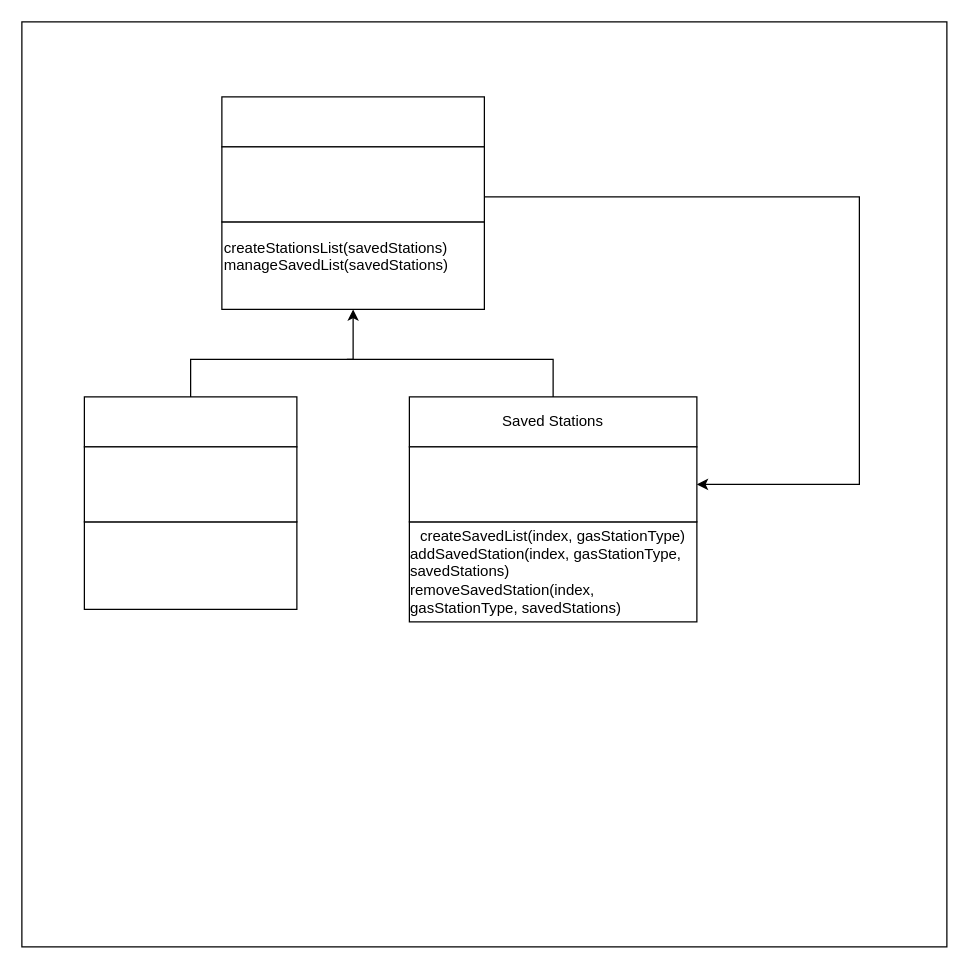
The diagram is 969 pixels wide and 969 high, and some of its shapes have lost their labels. The shapes that lost their labels are listed below. From the top down, each one's centre as x and y in pixels, then its label:
the point at 352,121: Gas Station List
the point at 190,421: Generated Stations
